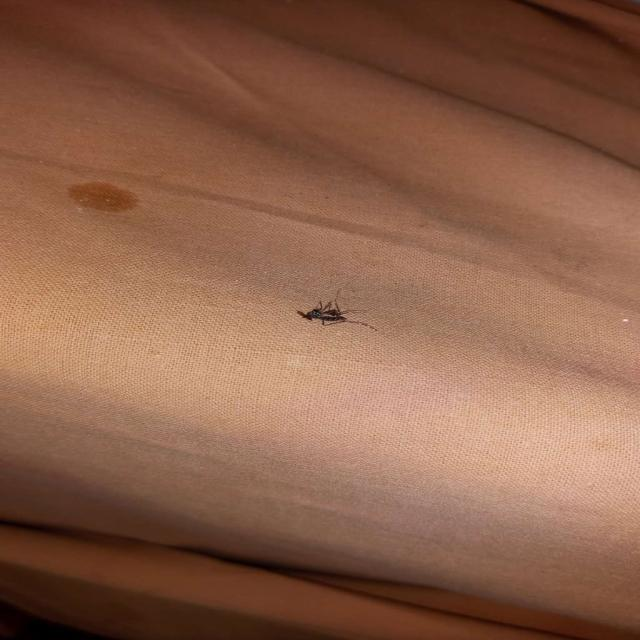albopictus: (510, 143, 601, 196)
